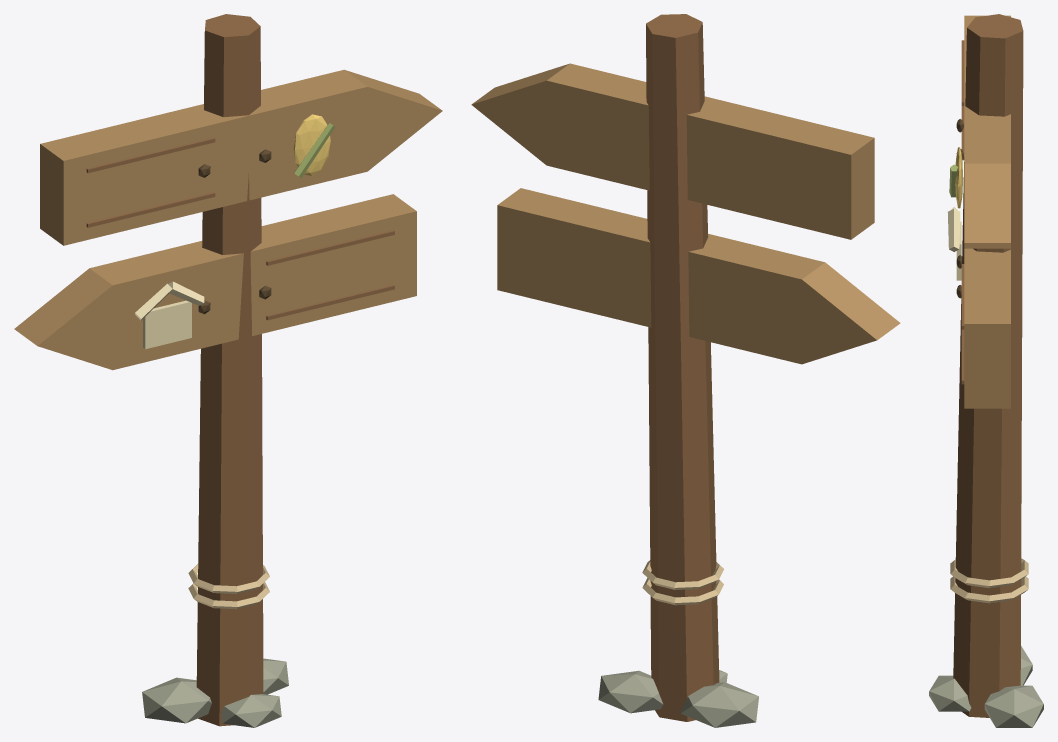
The model's file is rural-wayfinding-sign-v001.glb.
3 renders of one model, left to right at view 1: azimuth 30°, elevation 25°; view 2: azimuth 150°, elevation 25°; view 3: azimuth 270°, elevation 25°, orthographic.
Visible parts, largest first — view 1: rural-wayfinding-sign-v001; view 2: rural-wayfinding-sign-v001; view 3: rural-wayfinding-sign-v001.
Part boxes in pixels (x1,y1,x2,y2): rural-wayfinding-sign-v001: (14,14,442,727); rural-wayfinding-sign-v001: (471,14,900,727); rural-wayfinding-sign-v001: (929,14,1043,727).
Size of the model in its own units: 1.4 by 2.26 by 0.3433.
